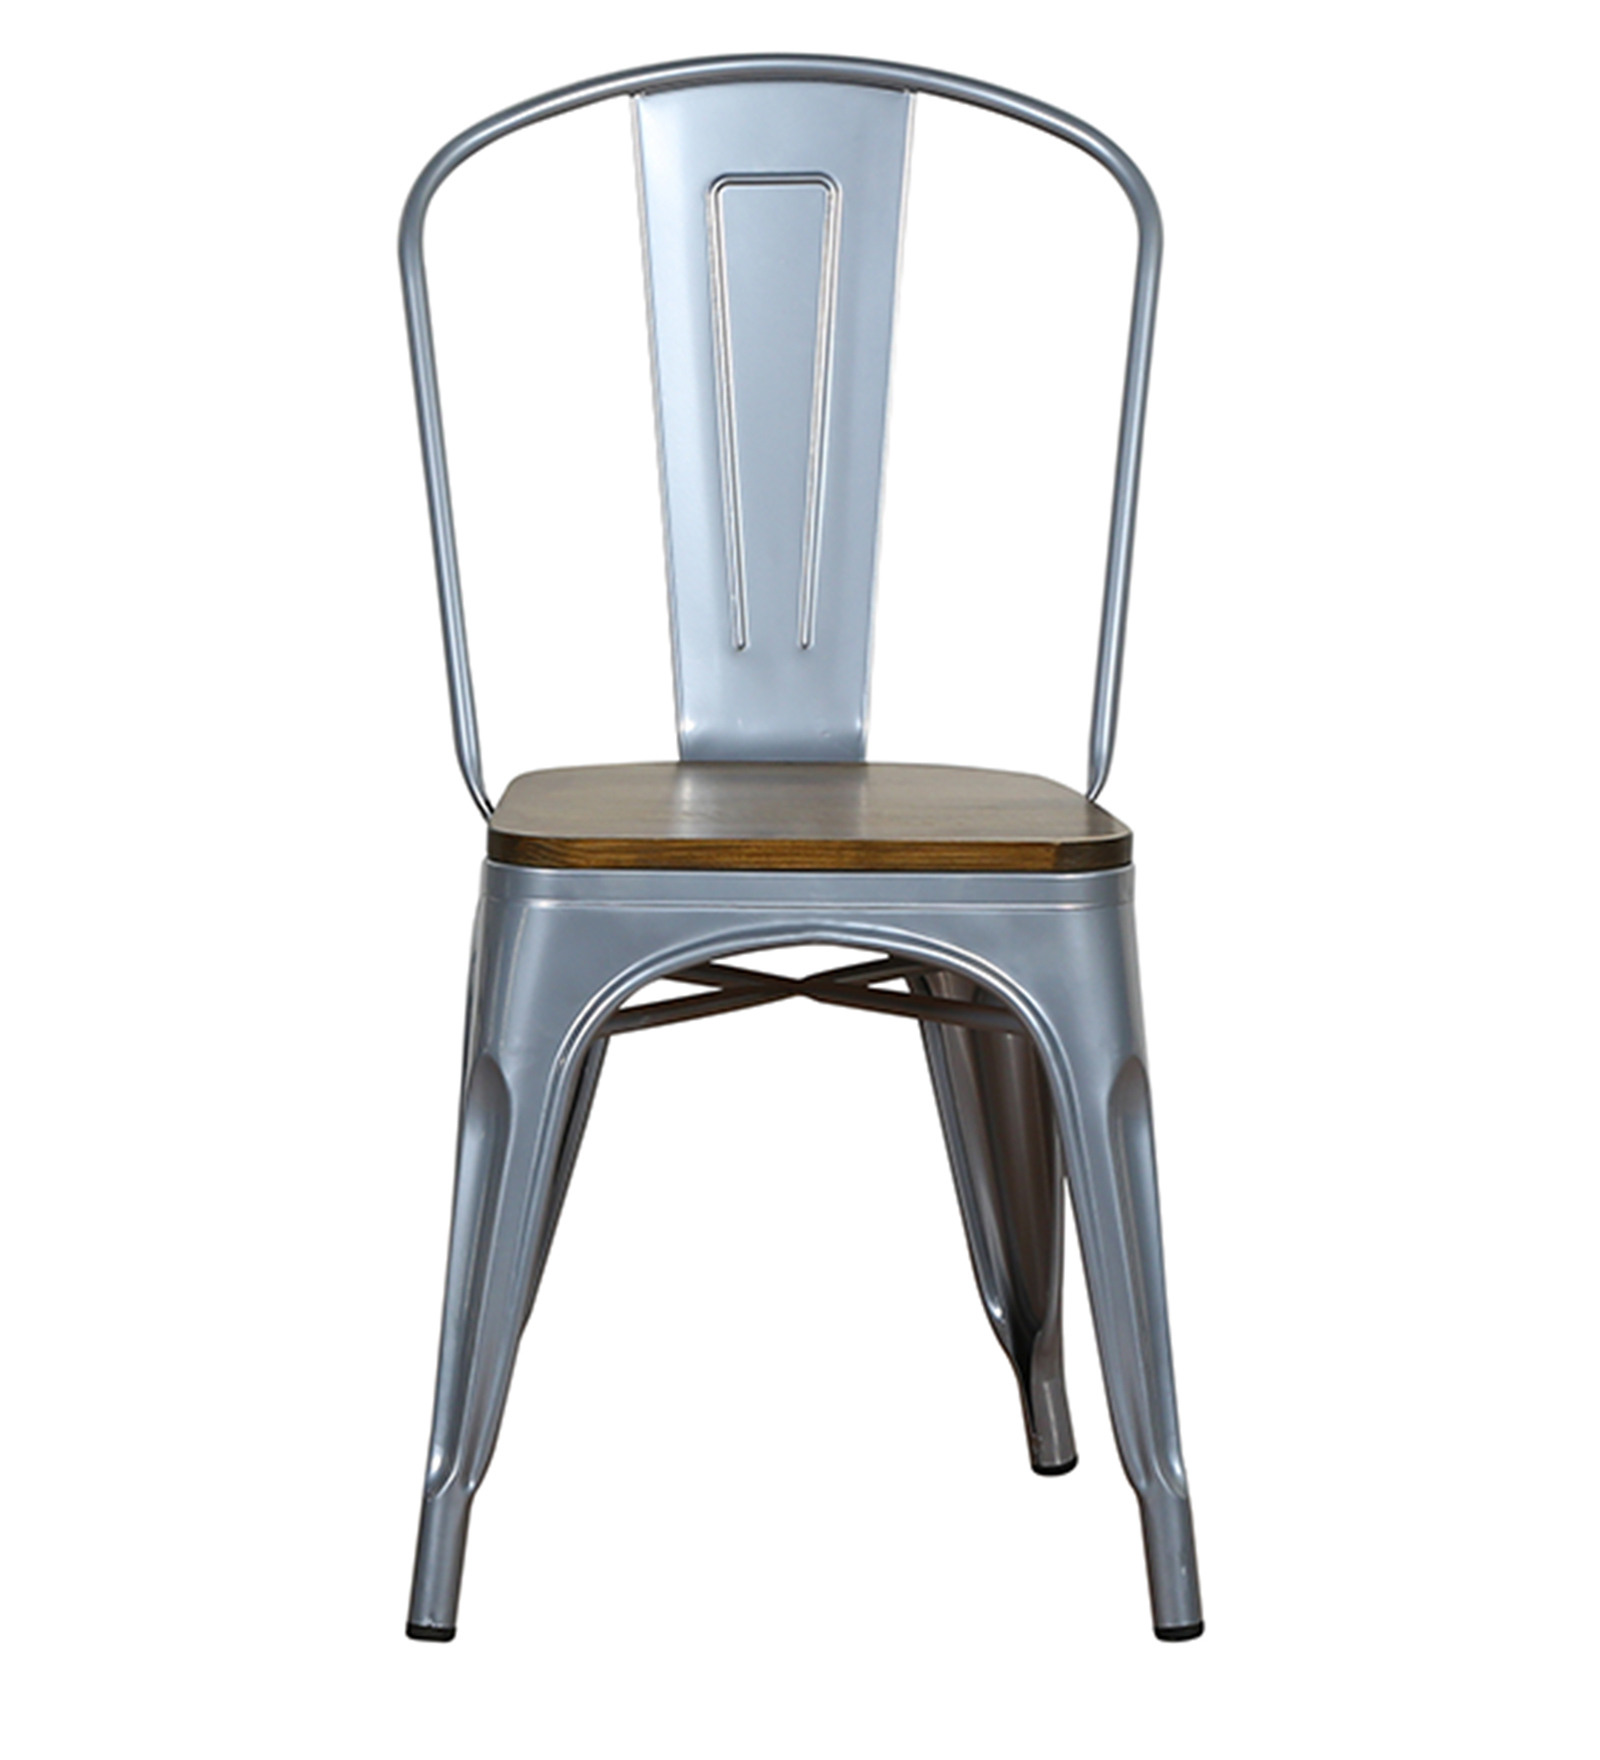Loy Metal Chair (Set of 2) in Silver Colour with Wooden Seat by Bohemiana: (385, 32, 1237, 1650)
